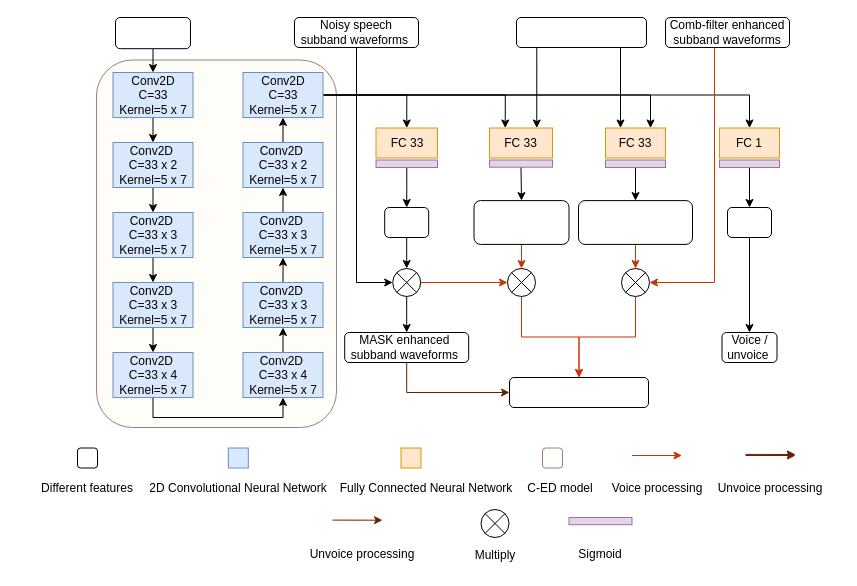
Some shapes in this 857 by 586 pixel diagram are drawn without their labels. The shapes that lost their labels are listed below. From the top down, each one's box as (x1, y1, x2, y2) in pixels, then its label:
(114, 16, 190, 49): Gammatone Feature
(516, 16, 646, 48): MASK enhanced subband feature
(384, 206, 429, 238): MASK
(473, 200, 569, 244): Enhanced subband weight
(578, 200, 692, 244): Comb-filter enhanced subband weight
(726, 206, 772, 238): Pitch
(508, 376, 648, 408): Harmonic compensated waveforms
